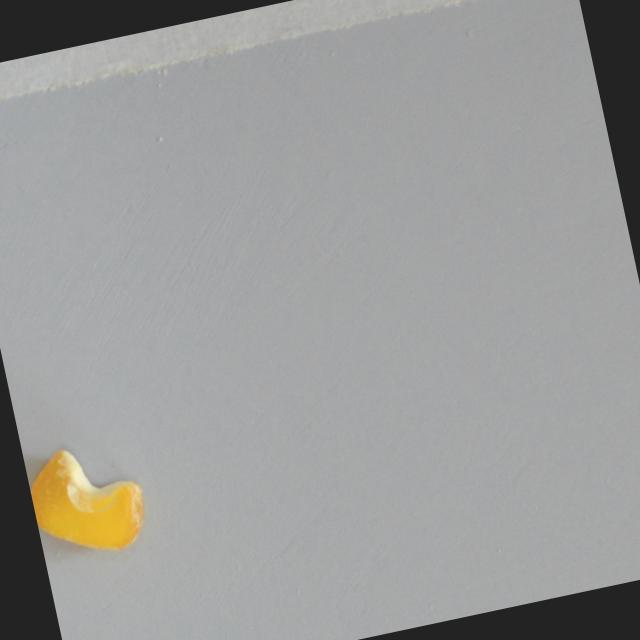pelicula: (22, 435, 153, 566)
